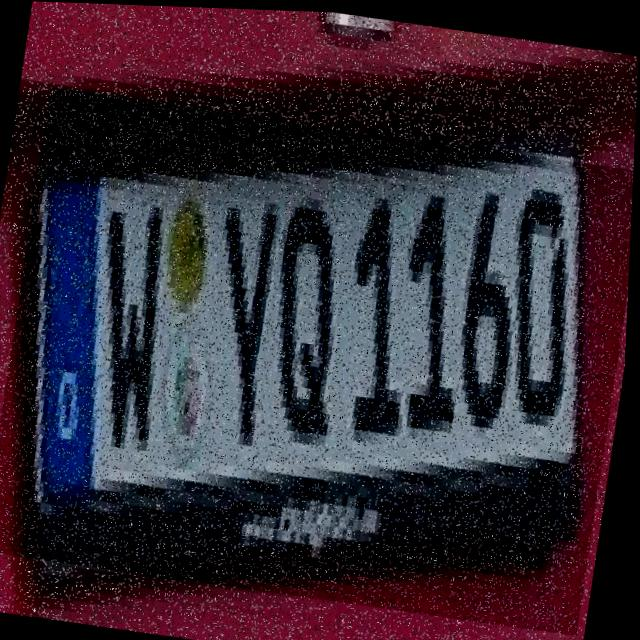LicensePlate: (0, 84, 637, 632)
